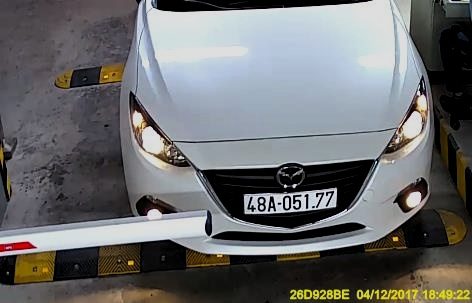plate: (242, 187, 335, 217)
